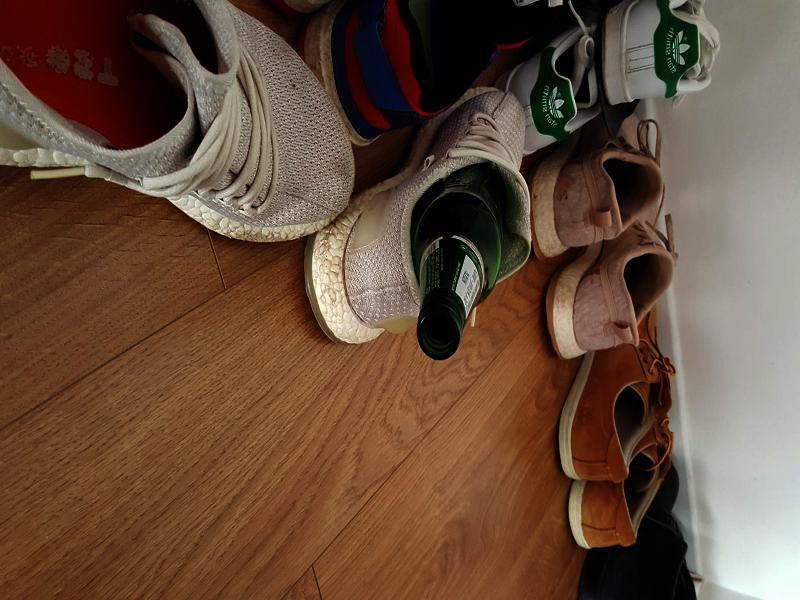Beer: (415, 165, 506, 360)
